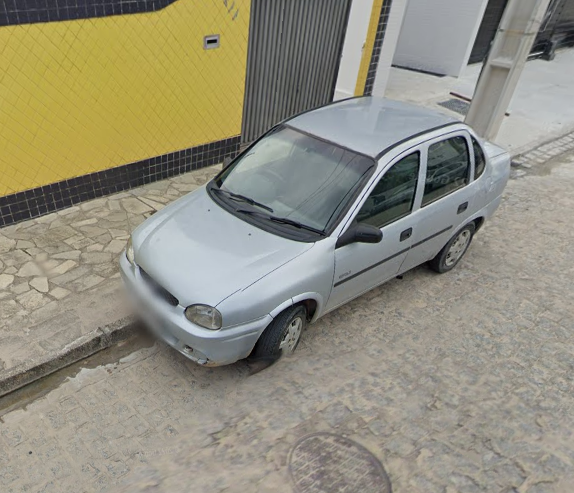car: (114, 91, 515, 370)
